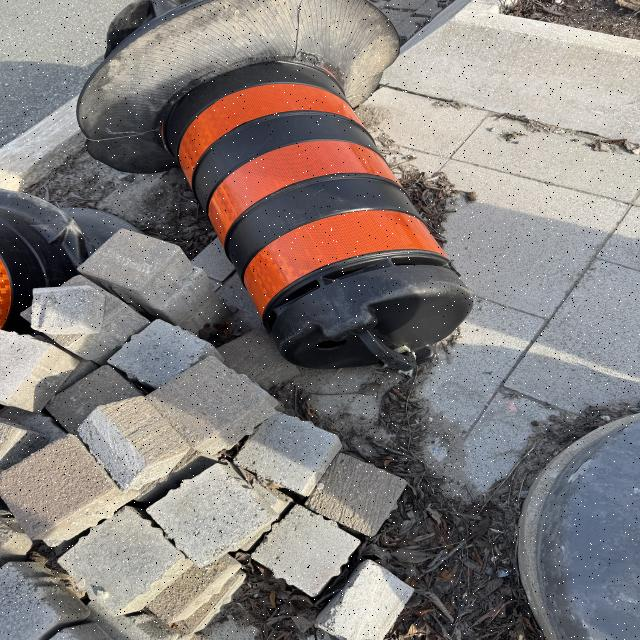Teraffic Barrel: (79, 0, 473, 369), (0, 189, 139, 333)
